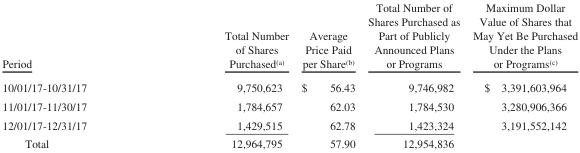table: (1, 0, 577, 149)
table column: (1, 0, 155, 149), (155, 0, 294, 149), (465, 0, 577, 149), (361, 0, 465, 149), (294, 0, 361, 149)
table column header: (1, 0, 577, 74)
table row: (1, 0, 577, 74), (1, 74, 577, 96), (1, 96, 577, 115), (1, 115, 577, 134), (1, 134, 577, 149)
